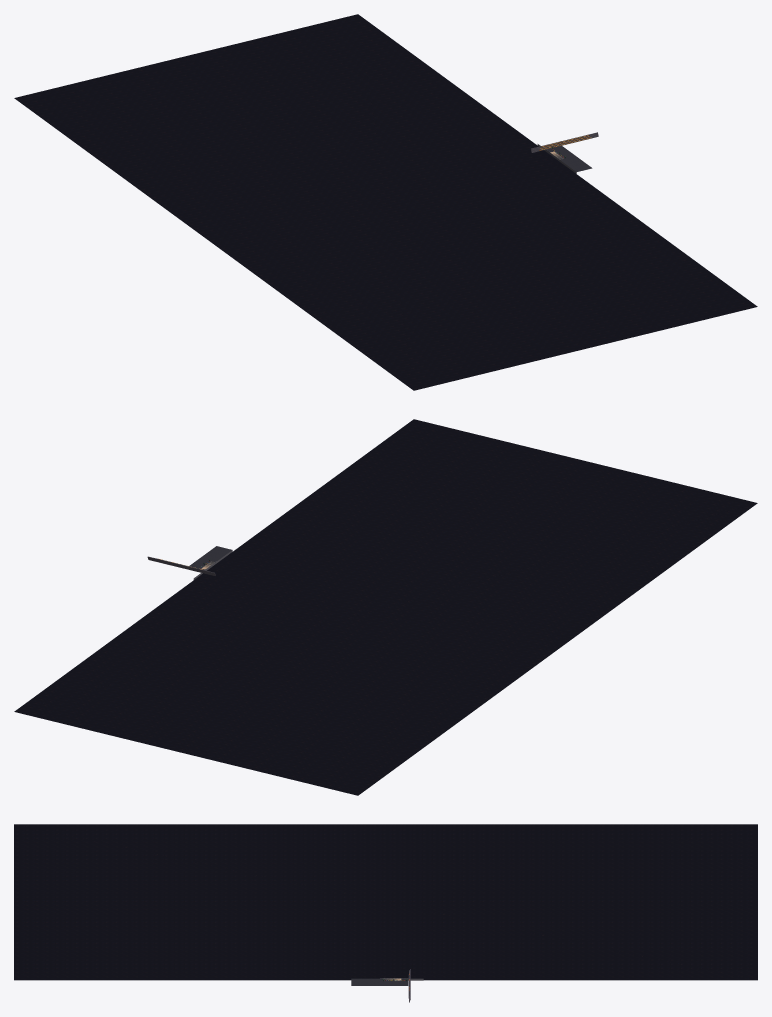
Rendered from lugar-chongqing.glb.
3 renders of one model, top to bottom at view 1: azimuth 30°, elevation 25°; view 2: azimuth 150°, elevation 25°; view 3: azimuth 270°, elevation 25°, orthographic. The views are drawn at different scales.
Parts seen in each view (by area): view 1: planoE; view 2: planoE; view 3: planoE, luzG-cerca.
Boxes of the visible parts, bbox=[...] form: planoE: bbox=[14, 14, 757, 390]; planoE: bbox=[14, 419, 757, 795]; planoE: bbox=[14, 824, 757, 990]; luzG-cerca: bbox=[351, 978, 408, 985].
Bounding box in the file's own units: 1720 × 24.2 × 3000.
Materials: 15 (10 with a texture image).
